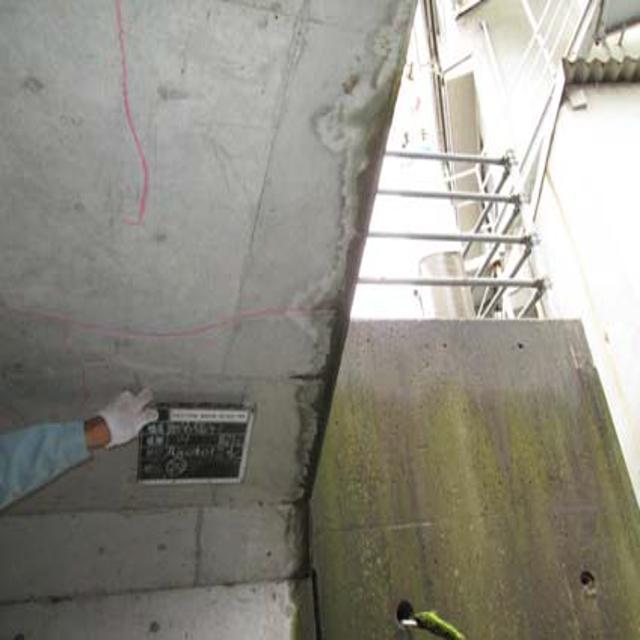leakage: (272, 36, 414, 508)
